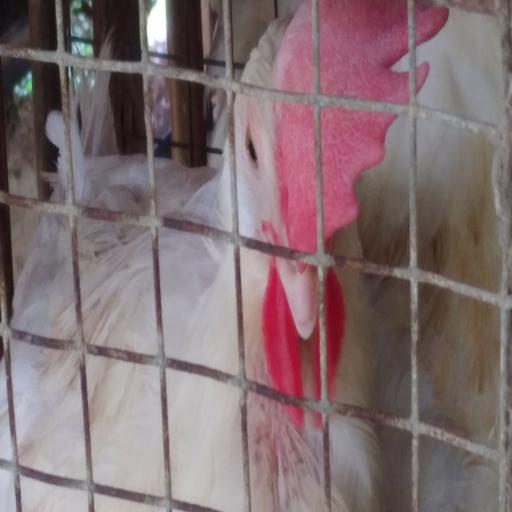healthy: (224, 52, 338, 312)
